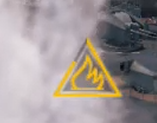1fire: (45, 67, 129, 101)
